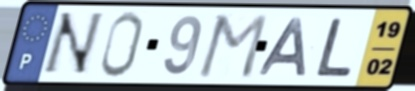0: (98, 9, 145, 81)
9: (161, 14, 204, 78)
A: (256, 16, 309, 78)
L: (312, 16, 355, 79)
M: (194, 13, 271, 81)
N: (37, 11, 107, 78)
